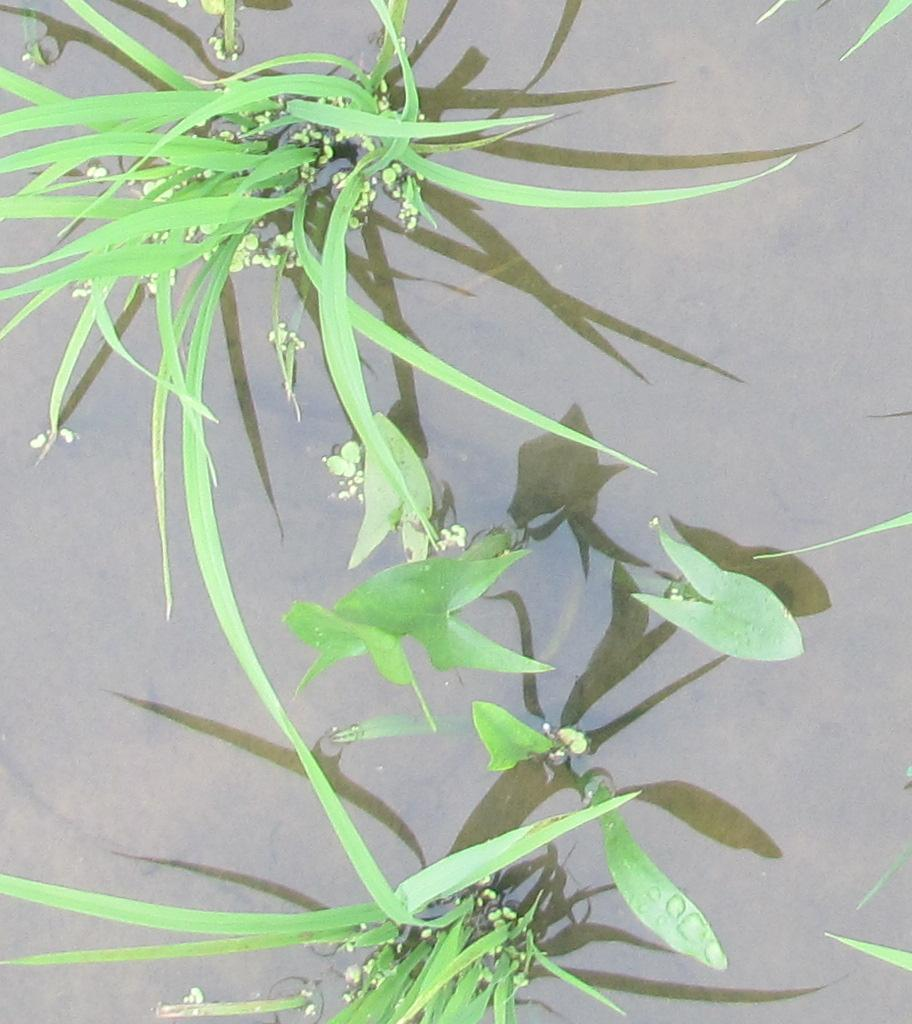Weed: (616, 514, 814, 692), (313, 539, 550, 682)
